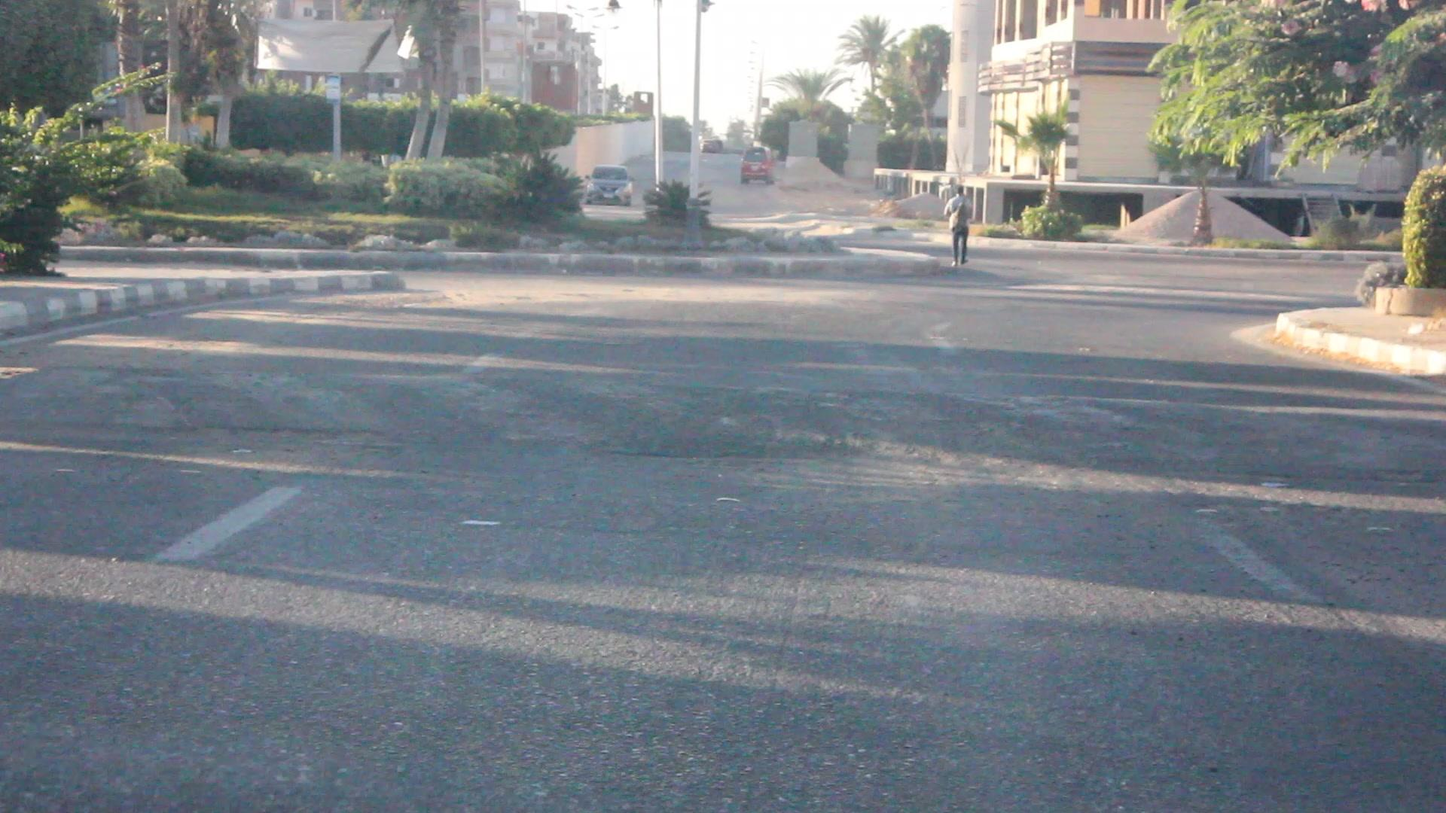Bump: (13, 346, 1446, 480)
